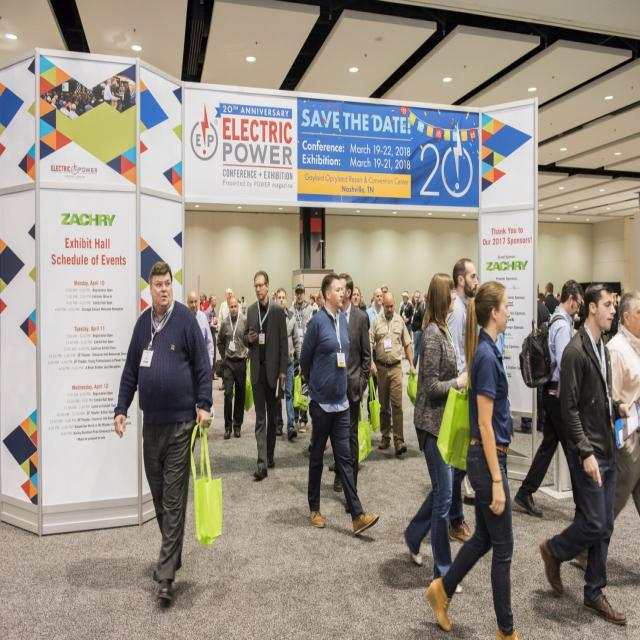body: (425, 279, 520, 640), (113, 260, 213, 601), (538, 277, 630, 629), (297, 269, 381, 536), (403, 272, 469, 594), (573, 289, 640, 574), (514, 278, 585, 518), (441, 256, 483, 545), (241, 268, 290, 480), (331, 271, 373, 517), (368, 291, 416, 456), (39, 61, 137, 126), (532, 274, 625, 336), (216, 297, 248, 440), (275, 286, 303, 442), (470, 279, 512, 383), (287, 283, 315, 433), (365, 287, 385, 426), (217, 286, 241, 391), (186, 290, 215, 372), (404, 290, 424, 376), (398, 287, 432, 330), (204, 294, 220, 381), (290, 288, 328, 318), (350, 284, 370, 331), (399, 292, 415, 340), (351, 290, 377, 316), (231, 294, 249, 318), (199, 292, 211, 312), (380, 284, 388, 307), (270, 291, 276, 300)
